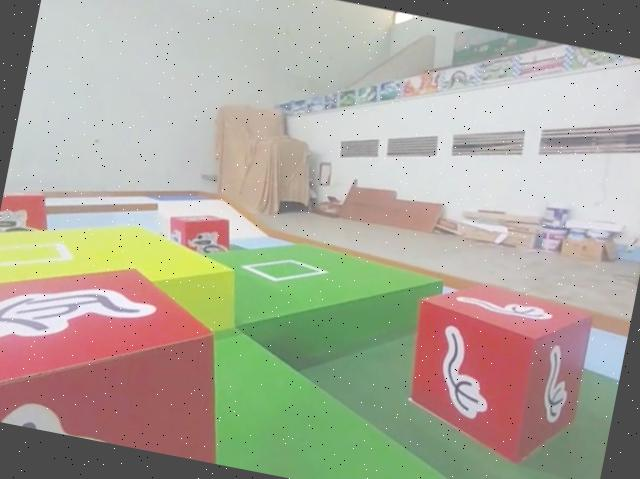R1: (162, 202, 240, 264), (0, 182, 57, 254)
R2 Fake: (0, 237, 257, 465)
R2 Real: (391, 269, 601, 474)
